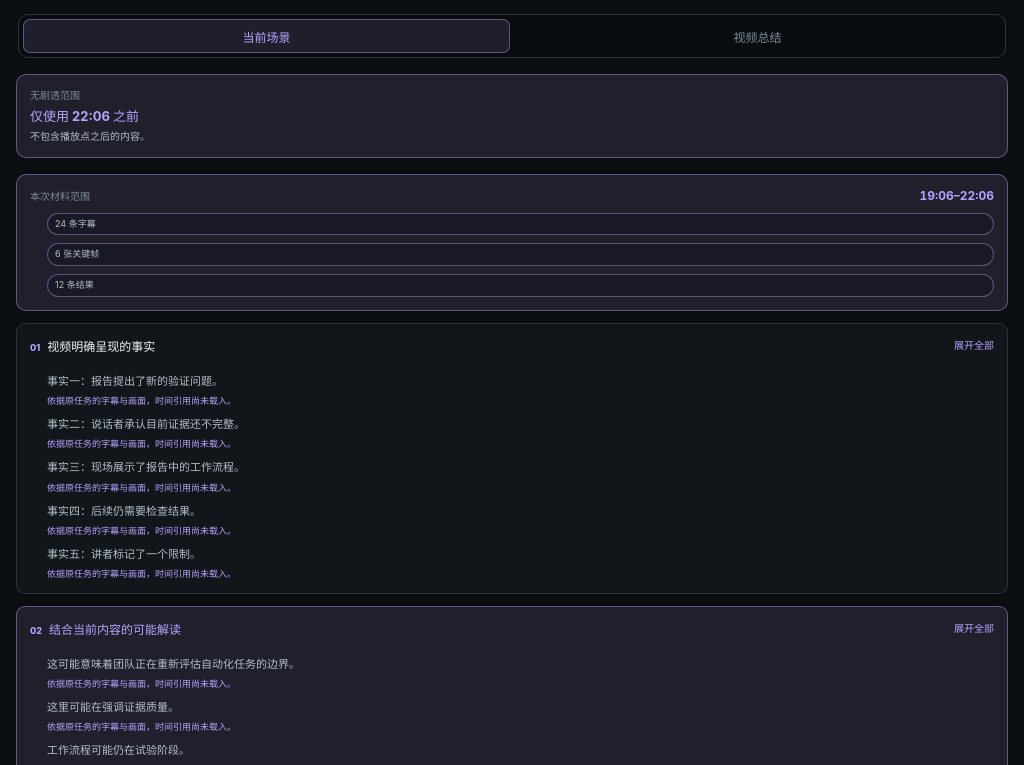
Scenario: UnderstandingPanel reading flow › shows five items first and independently expands both result groups
The image size is (1024, 765).
Expected: the text "事实一：报告提出了新的验证问题。" is shown, [47,374,223,388]
Expected: the text "事实六：画面显示了流程图。" is not shown
Click the button "展开全部" in the row of "视频明确呈现的事实": (974, 344) [954,337,994,352]
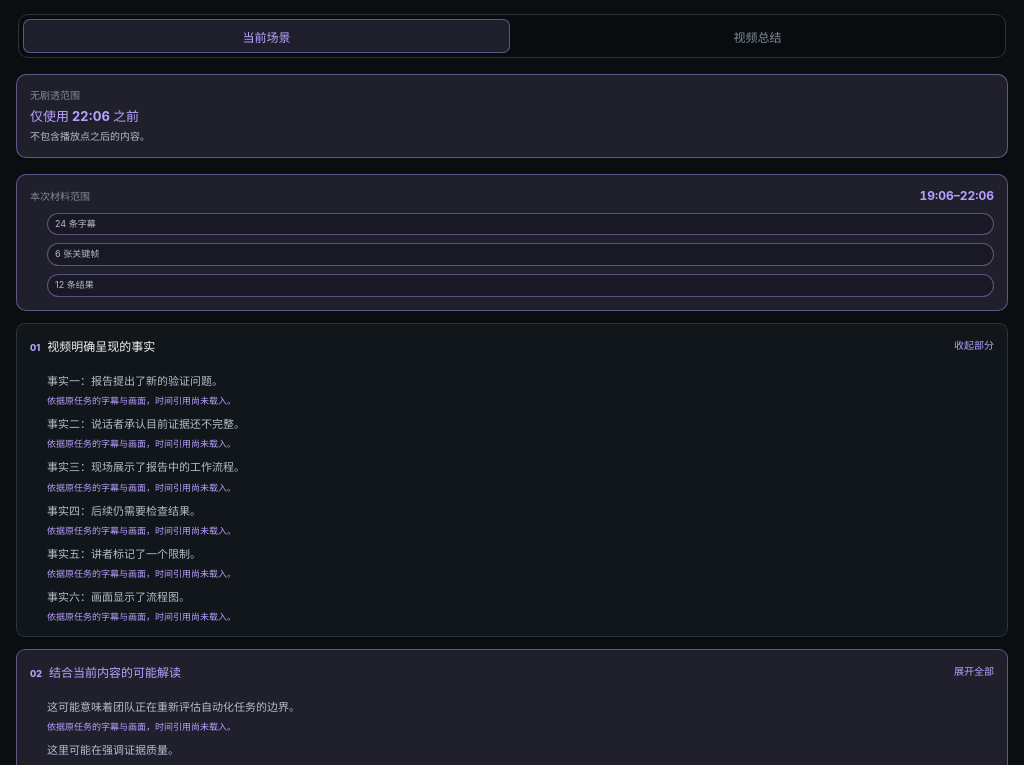
Expected: the button named "展开全部" is expanded, [954,337,994,352]
Expected: the text "事实六：画面显示了流程图。" is shown, [47,590,190,604]
Click the button "展开全部": (974, 671) [954,663,994,678]
(page scrolled)
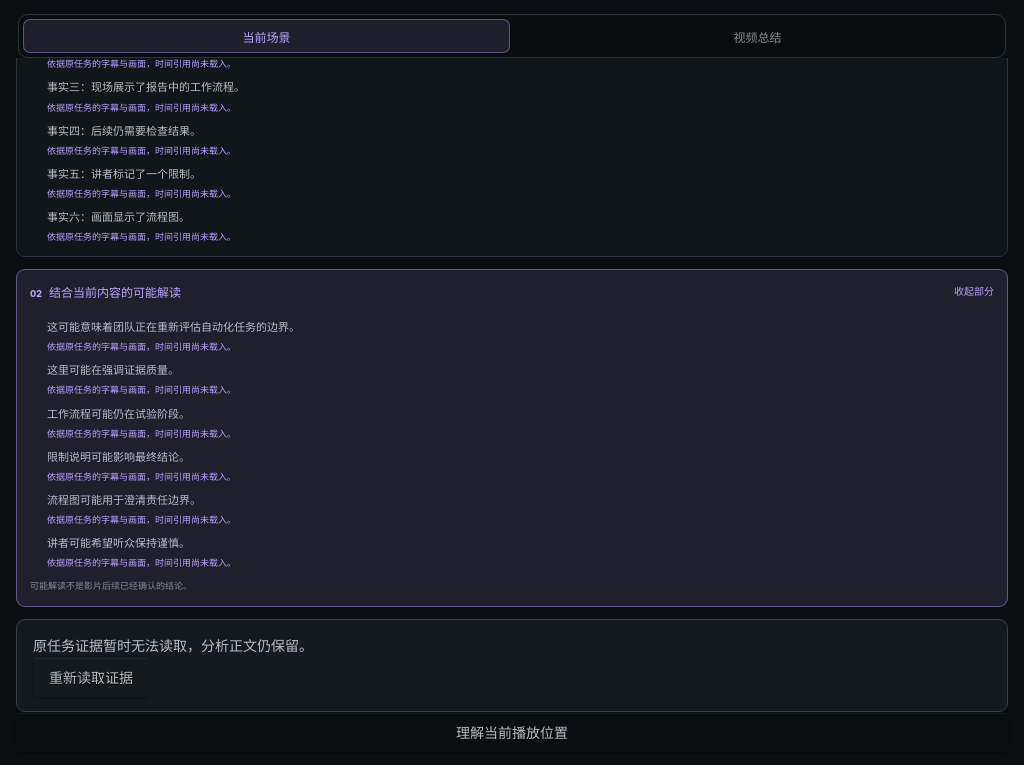
Expected: the button named "展开全部" is expanded, [954,283,994,298]
Expected: the text "讲者可能希望听众保持谨慎。" is shown, [47,536,190,550]
